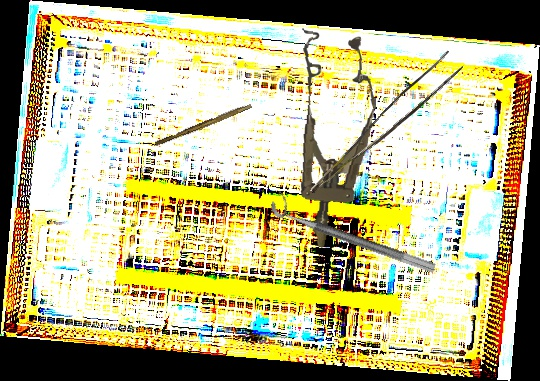Fixation Ring: (267, 189, 442, 275)
Scalpel Handle: (154, 101, 253, 148)
Speculum: (279, 28, 384, 252)
Tissue Forceps: (309, 46, 465, 210)
